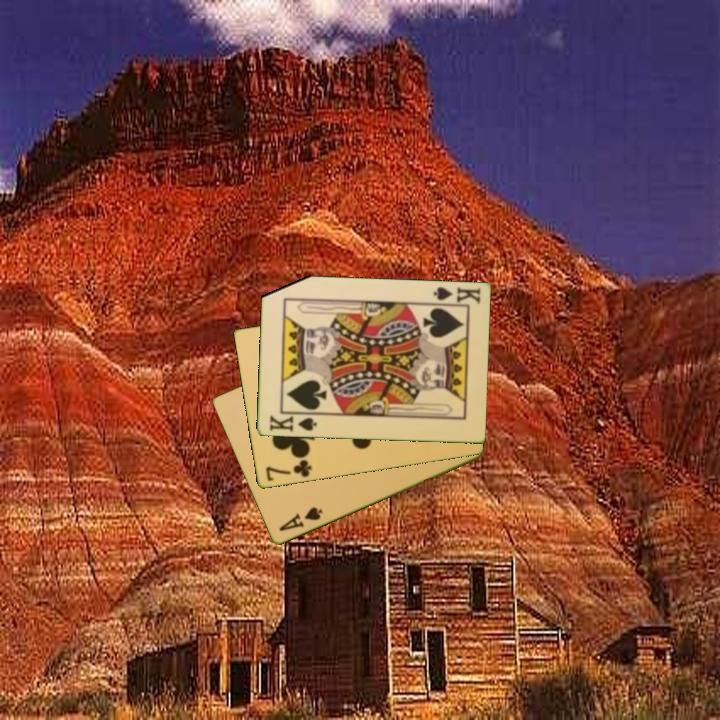7c: (262, 456, 315, 484)
As: (275, 504, 325, 535)
Ks: (427, 284, 483, 308), (266, 410, 319, 435)
